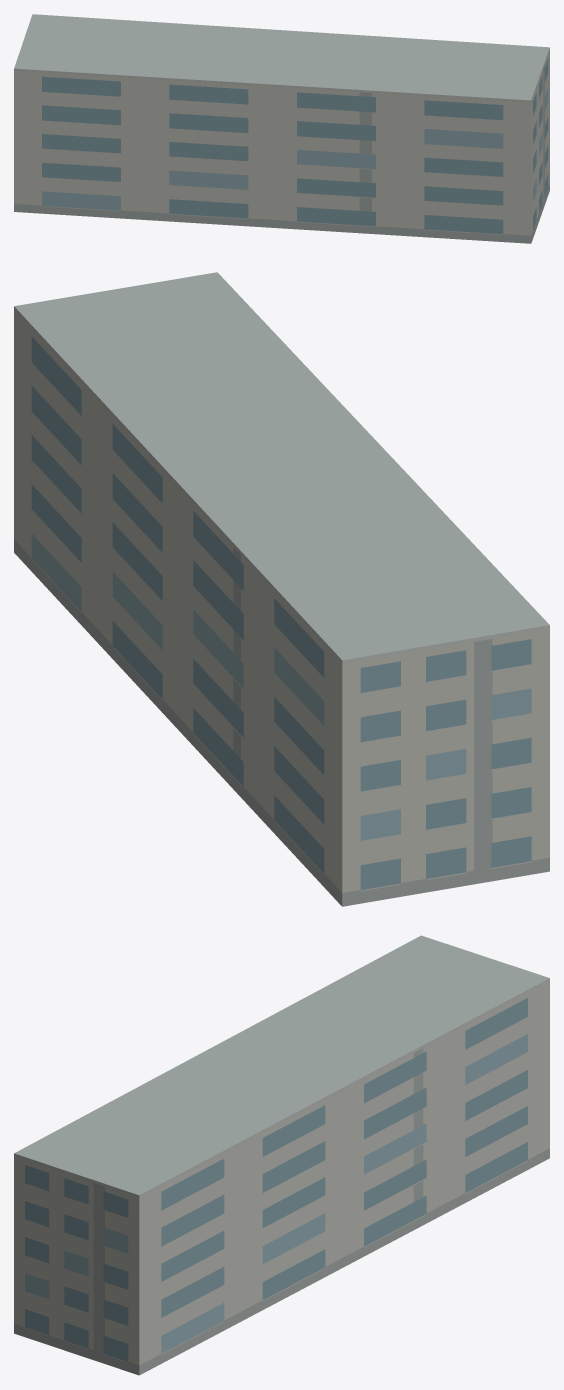
The model's file is survey-upis-32744385.glb.
3 views of the same model, one above another, from view 1: azimuth 30°, elevation 25°; view 2: azimuth 150°, elevation 25°; view 3: azimuth 270°, elevation 25° (orthographic). The views are drawn at different scales.
Parts seen in each view (by area): view 1: survey-upis-32744385.tmp; view 2: survey-upis-32744385.tmp; view 3: survey-upis-32744385.tmp.
Boxes of the visible parts, box(x1,y1,x2,y2) form: survey-upis-32744385.tmp: box(14, 14, 549, 243); survey-upis-32744385.tmp: box(14, 272, 549, 906); survey-upis-32744385.tmp: box(14, 935, 549, 1375).
Bounding box in the file's own units: 47.2 × 15.25 × 41.12.
